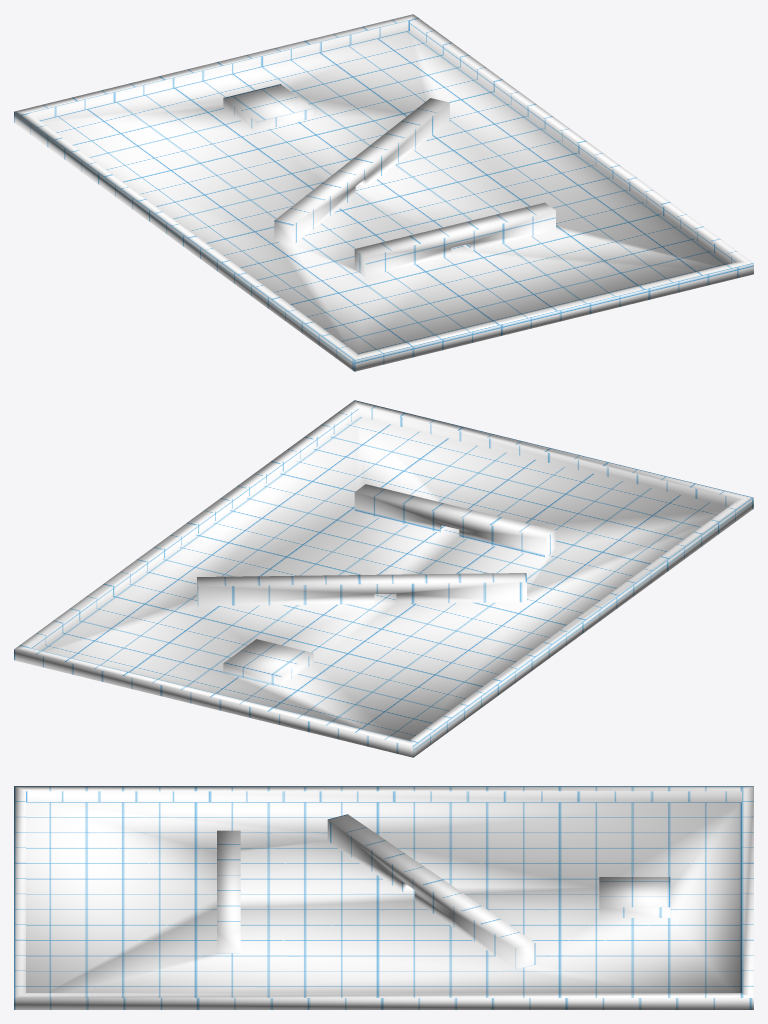
File: Scenario_4a.dae
3 views of the same model, one above another, from view 1: azimuth 30°, elevation 25°; view 2: azimuth 150°, elevation 25°; view 3: azimuth 270°, elevation 25° (orthographic). The views are drawn at different scales.
Parts seen in each view (by area): view 1: Scenario_4a; view 2: Scenario_4a; view 3: Scenario_4a.
Boxes of the visible parts, bbox=[...] form: Scenario_4a: bbox=[14, 14, 753, 371]; Scenario_4a: bbox=[14, 400, 753, 757]; Scenario_4a: bbox=[14, 786, 753, 1009].
Bounding box in the file's own units: 21 × 31 × 1.05.
Materials: 1 (1 with a texture image).
